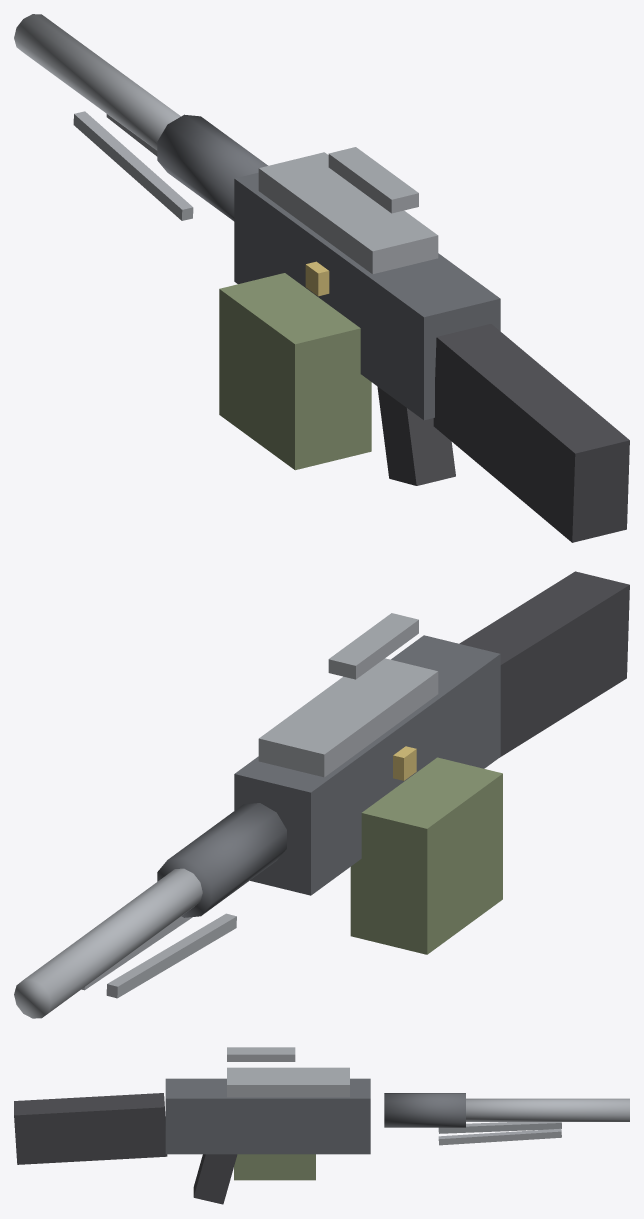
Rendered from lmg_held.gltf.
3 renders of one model, top to bottom at view 1: azimuth 30°, elevation 25°; view 2: azimuth 150°, elevation 25°; view 3: azimuth 270°, elevation 25°, orthographic. The views are drawn at different scales.
Visible parts, largest first — view 1: lmg_held; view 2: lmg_held; view 3: lmg_held.
Part boxes in pixels (x1,y1,x2,y2): lmg_held: (14, 14, 629, 542); lmg_held: (14, 571, 629, 1018); lmg_held: (14, 1047, 629, 1204).
Bounding box in the file's own units: 0.13 × 0.24 × 0.9022.
